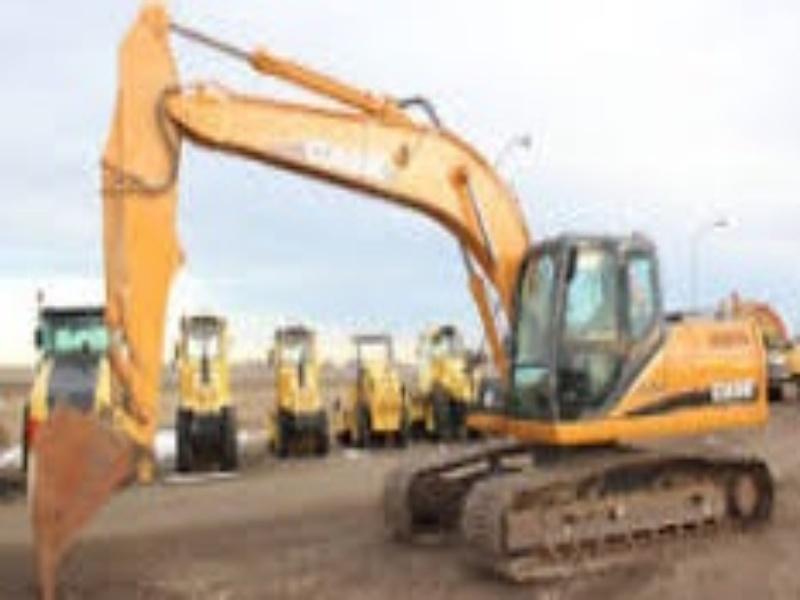wajueji: (404, 200, 789, 600)
